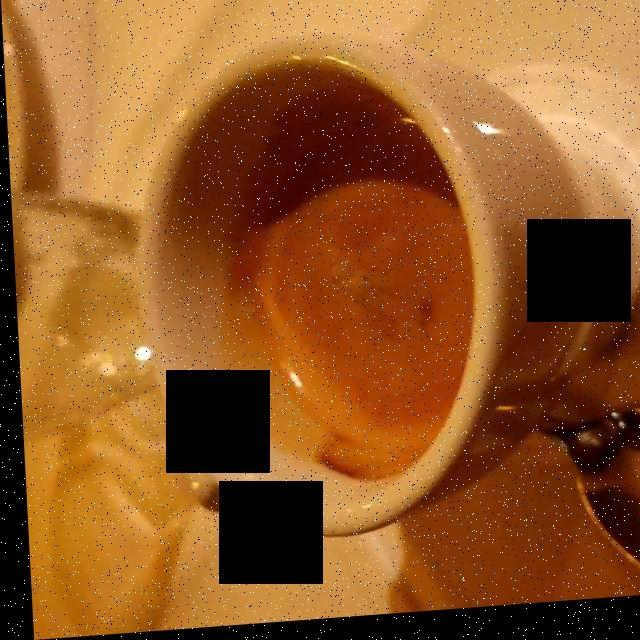espresso: (177, 73, 463, 477)
